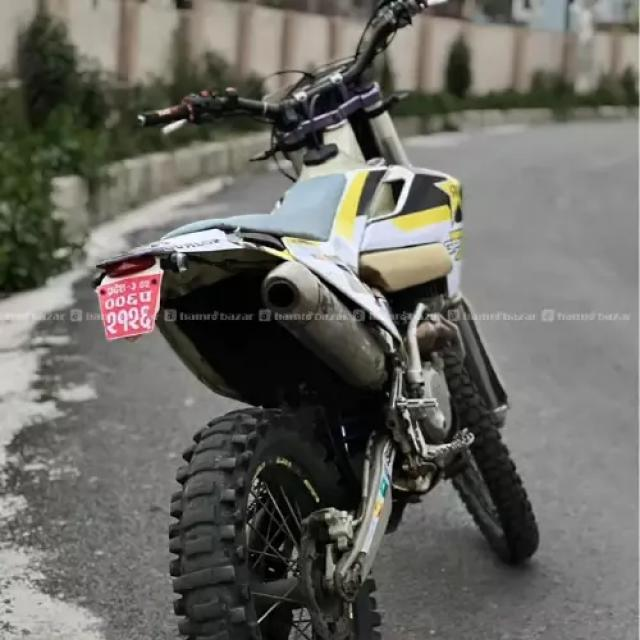License-plate: (88, 271, 166, 349)
